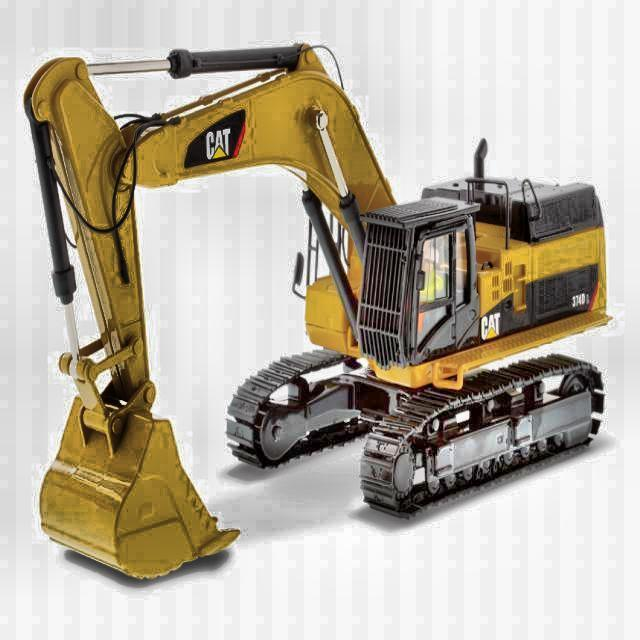excavator: (21, 39, 614, 583)
